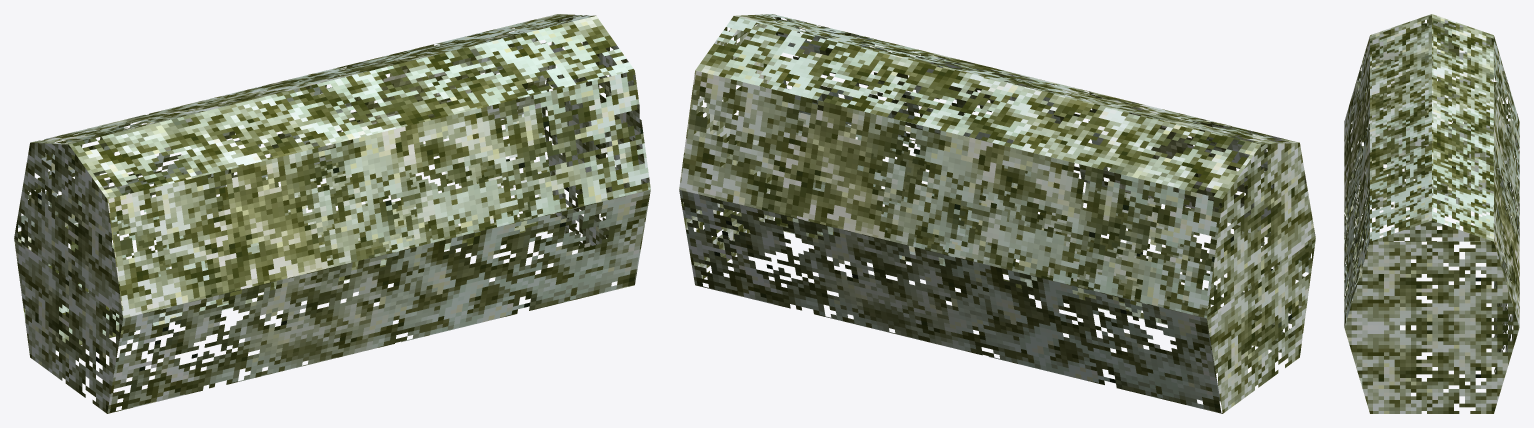
The model's file is bush_long_winter.glb.
3 views of the same model, side by side, from view 1: azimuth 30°, elevation 25°; view 2: azimuth 150°, elevation 25°; view 3: azimuth 270°, elevation 25° (orthographic). The views are drawn at different scales.
Parts seen in each view (by area): view 1: bush_long_winter; view 2: bush_long_winter; view 3: bush_long_winter.
Part boxes in pixels (left/top/right/bottom): bush_long_winter: left=14, top=14, right=650, bottom=413; bush_long_winter: left=679, top=14, right=1315, bottom=413; bush_long_winter: left=1344, top=14, right=1519, bottom=413.
Size of the model in its own units: 2.01 by 0.8765 by 0.7191.
Materials: 1 (1 with a texture image).
